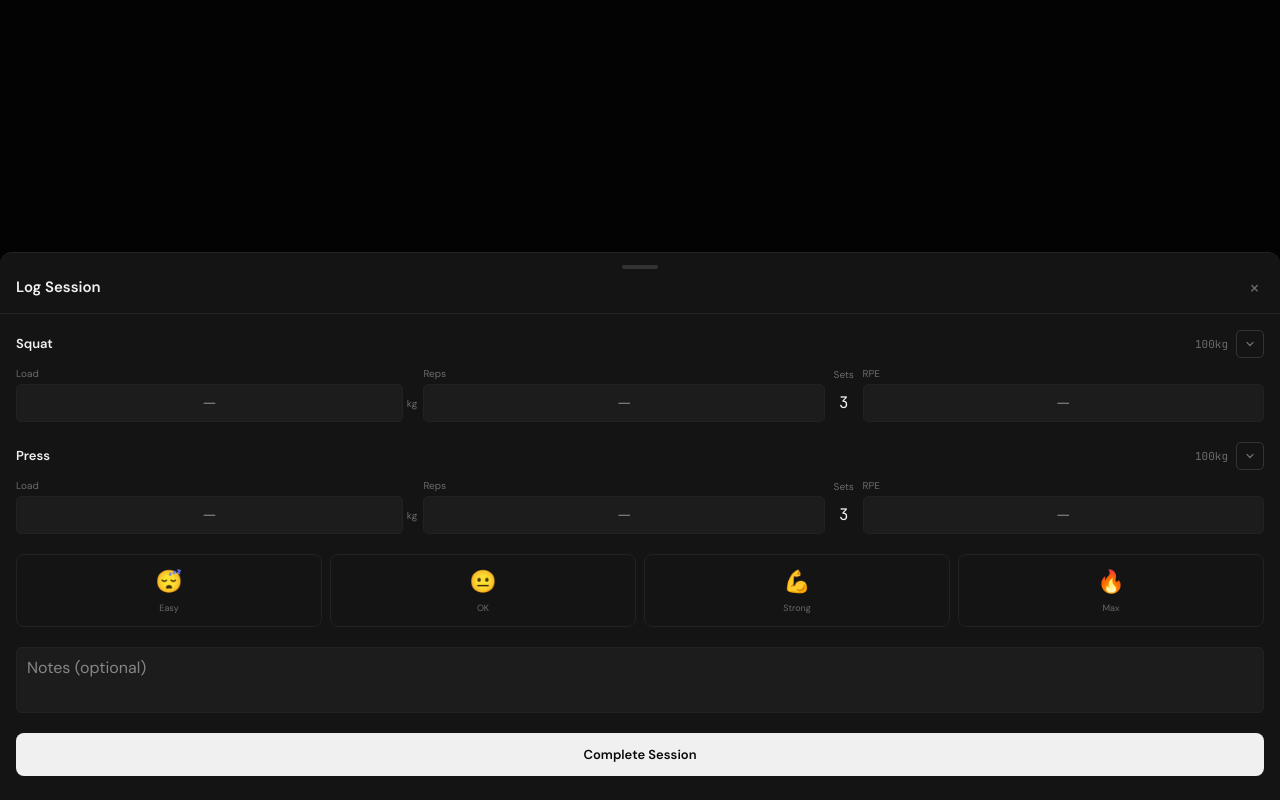
it: SessionLogSheet — expand per-set › clicking expand shows per-set rows
The width and height of the screenshot is (1280, 800).
What coordinates should you click on to do the following:
click the button named "Expand per-set" in the row of "Squat"
I would click on:
 (1250, 344)
Its box is 1236,330 -> 1264,358.
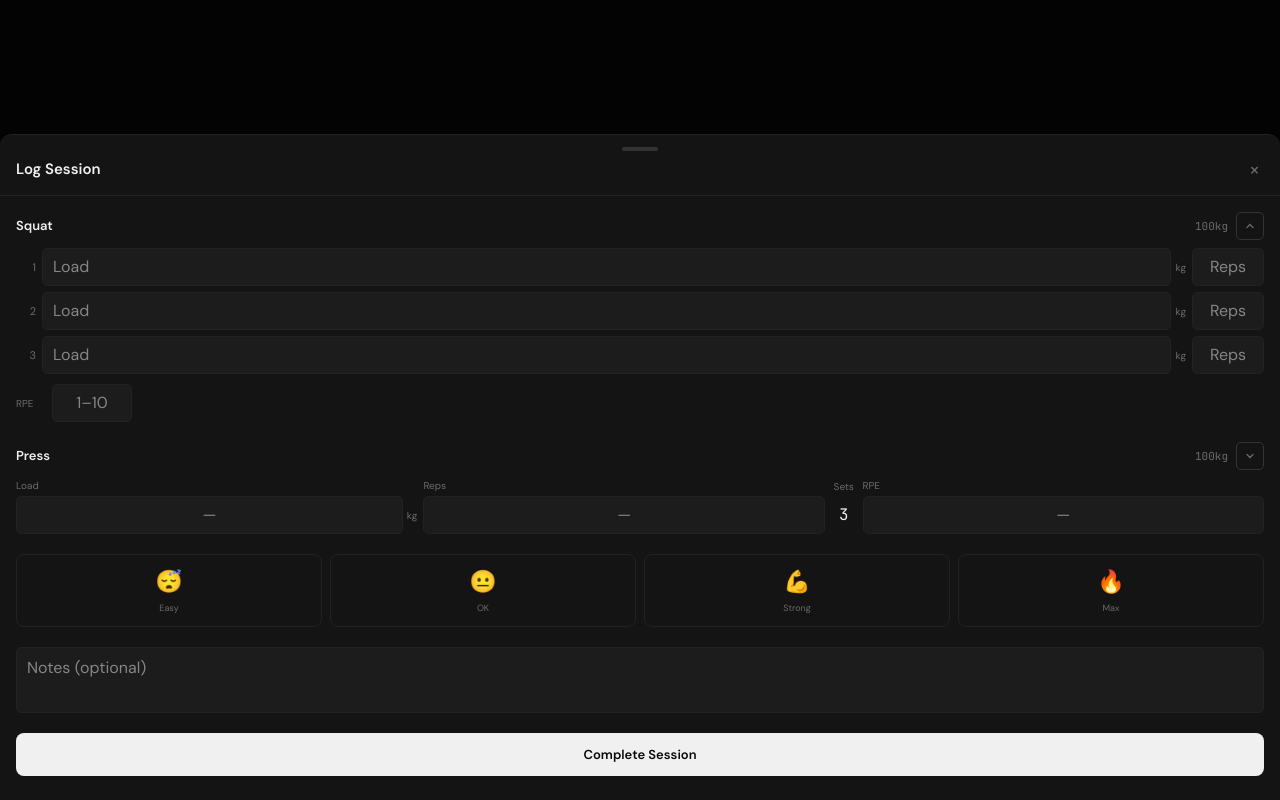
Check: the number of fields with placeholder "Load" is 3, box 42,248 -> 1171,286; 42,292 -> 1171,330; 42,336 -> 1171,374
Check: the number of number fields with placeholder "Reps" is 3, box 1192,248 -> 1264,286; 1192,292 -> 1264,330; 1192,336 -> 1264,374
